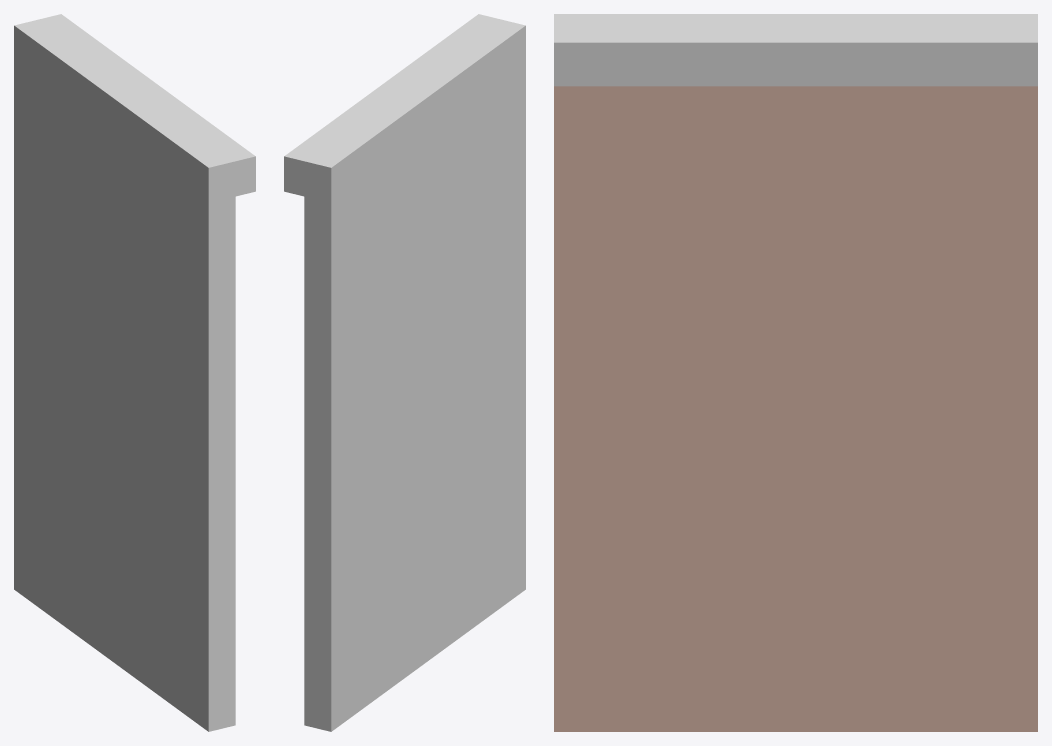
The model's file is EntranceWall_02_Top.fbx.
The picture shows the model from 3 angles, left to right: view 1: azimuth 30°, elevation 25°; view 2: azimuth 150°, elevation 25°; view 3: azimuth 270°, elevation 25°; orthographic projection. The views are drawn at different scales.
Parts seen in each view (by area): view 1: EntranceWall_02_Top; view 2: EntranceWall_02_Top; view 3: EntranceWall_02_Top.
Part boxes in pixels (x1,y1,x2,y2): EntranceWall_02_Top: [14, 14, 255, 731]; EntranceWall_02_Top: [284, 14, 525, 731]; EntranceWall_02_Top: [554, 14, 1037, 731].
Bounding box in the file's own units: 0.35 × 4 × 2.5.
